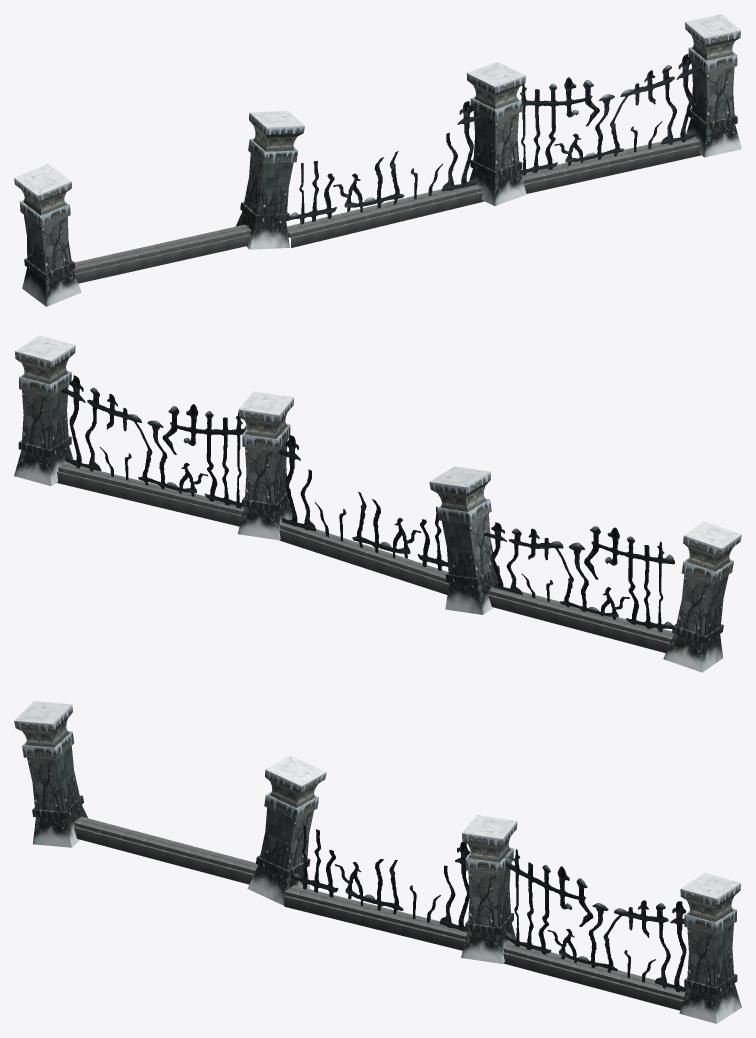
Rendered from 3-1_weiqiang1.FBX.
3 views of the same model, one above another, from view 1: azimuth 30°, elevation 25°; view 2: azimuth 150°, elevation 25°; view 3: azimuth 330°, elevation 25° (orthographic). The views are drawn at different scales.
Visible parts, largest first — view 1: 3-1_weiqiang1; view 2: 3-1_weiqiang1; view 3: 3-1_weiqiang1.
Boxes of the visible parts, x1,y1,x2,y2 form: 3-1_weiqiang1: [14, 14, 741, 306]; 3-1_weiqiang1: [14, 335, 741, 672]; 3-1_weiqiang1: [14, 701, 741, 1023].
Size of the model in its own units: 1775 by 328 by 199.
